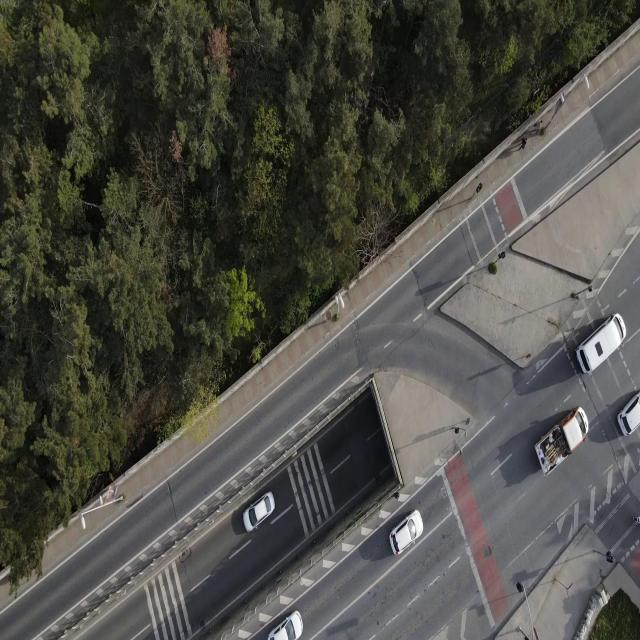p3rson: (533, 120, 544, 136), (518, 136, 528, 153)
